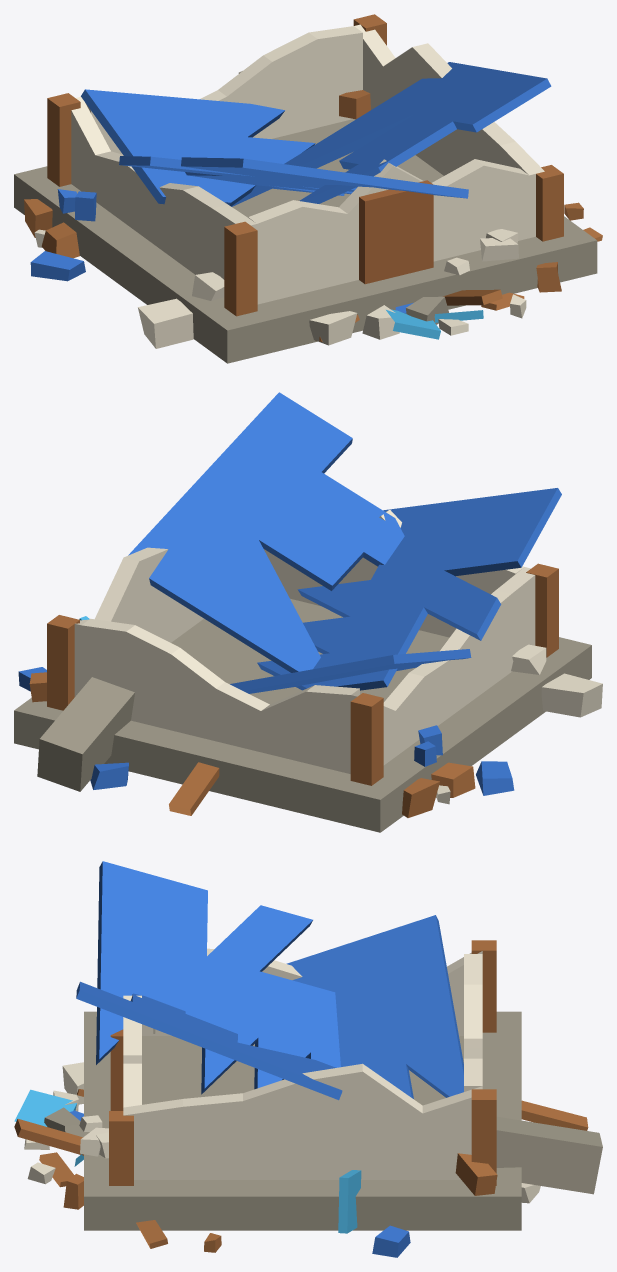
File: house_t2_v2_dmg2.glb
The picture shows the model from 3 angles, top to bottom: view 1: azimuth 30°, elevation 25°; view 2: azimuth 150°, elevation 25°; view 3: azimuth 270°, elevation 25°; orthographic projection. The views are drawn at different scales.
Visible parts, largest first — view 1: house_t2_v2_dmg2; view 2: house_t2_v2_dmg2; view 3: house_t2_v2_dmg2.
Part boxes in pixels (bbox=[...]): house_t2_v2_dmg2: bbox=[14, 14, 602, 363]; house_t2_v2_dmg2: bbox=[14, 392, 602, 832]; house_t2_v2_dmg2: bbox=[14, 861, 602, 1257].
Bounding box in the file's own units: 0.9167 × 0.3785 × 0.9421.
1 material, 1 textured.
